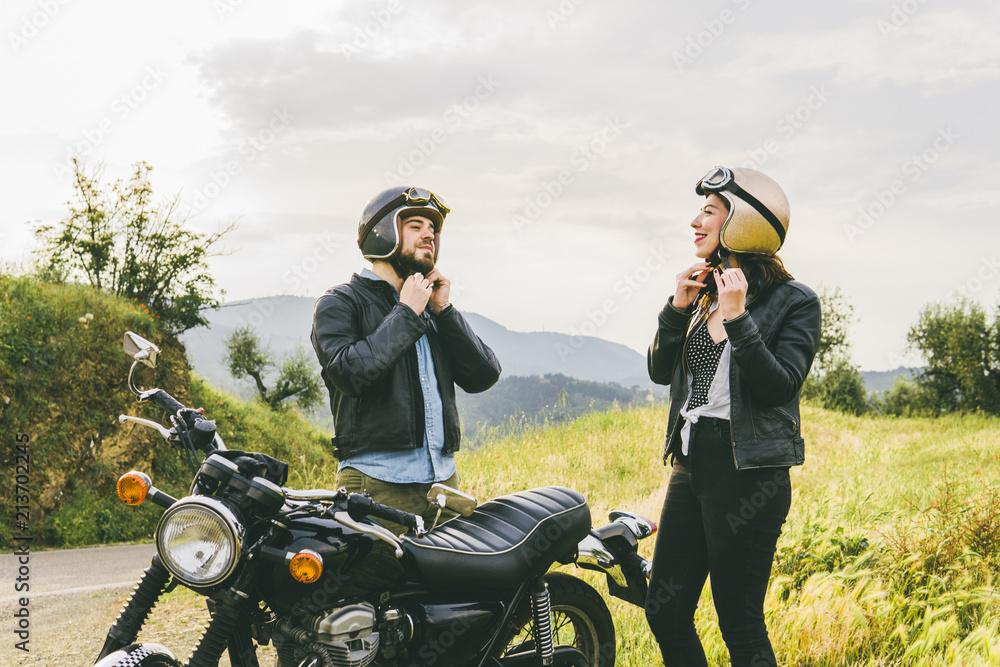helmet: (689, 164, 791, 273), (356, 184, 452, 285)
